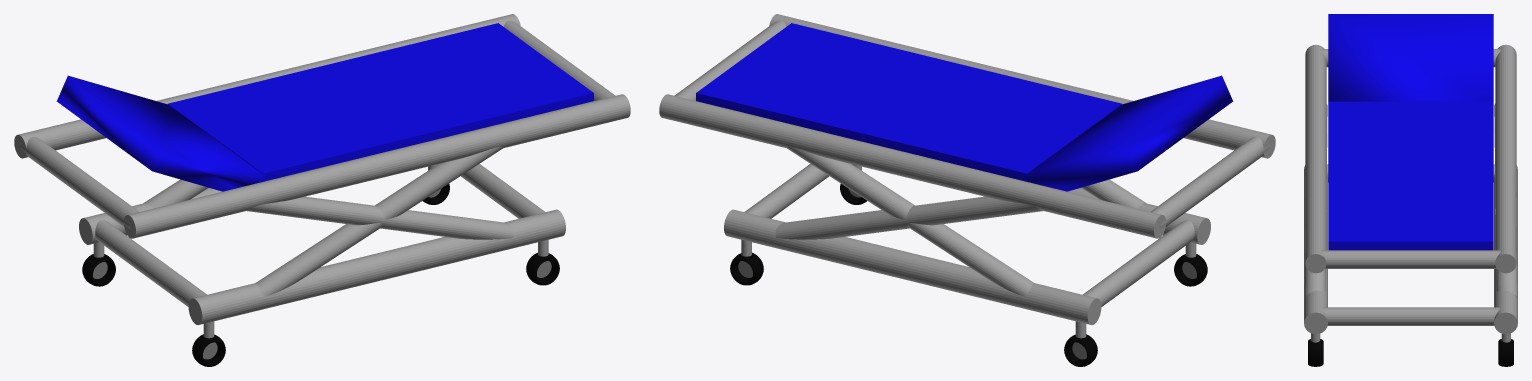
The model's file is Stretcher.fbx.
3 renders of one model, left to right at view 1: azimuth 30°, elevation 25°; view 2: azimuth 150°, elevation 25°; view 3: azimuth 270°, elevation 25°, orthographic. The views are drawn at different scales.
Parts seen in each view (by area): view 1: Stretcher, BottomTrolly; view 2: Stretcher, BottomTrolly; view 3: Stretcher, BottomTrolly.
Boxes of the visible parts, bbox=[...] form: Stretcher: bbox=[14, 14, 630, 238]; BottomTrolly: bbox=[79, 146, 565, 366]; Stretcher: bbox=[659, 14, 1275, 238]; BottomTrolly: bbox=[724, 146, 1210, 366]; Stretcher: bbox=[1305, 14, 1516, 273]; BottomTrolly: bbox=[1304, 103, 1517, 366].
Size of the model in its own units: 524 by 227 by 226.
